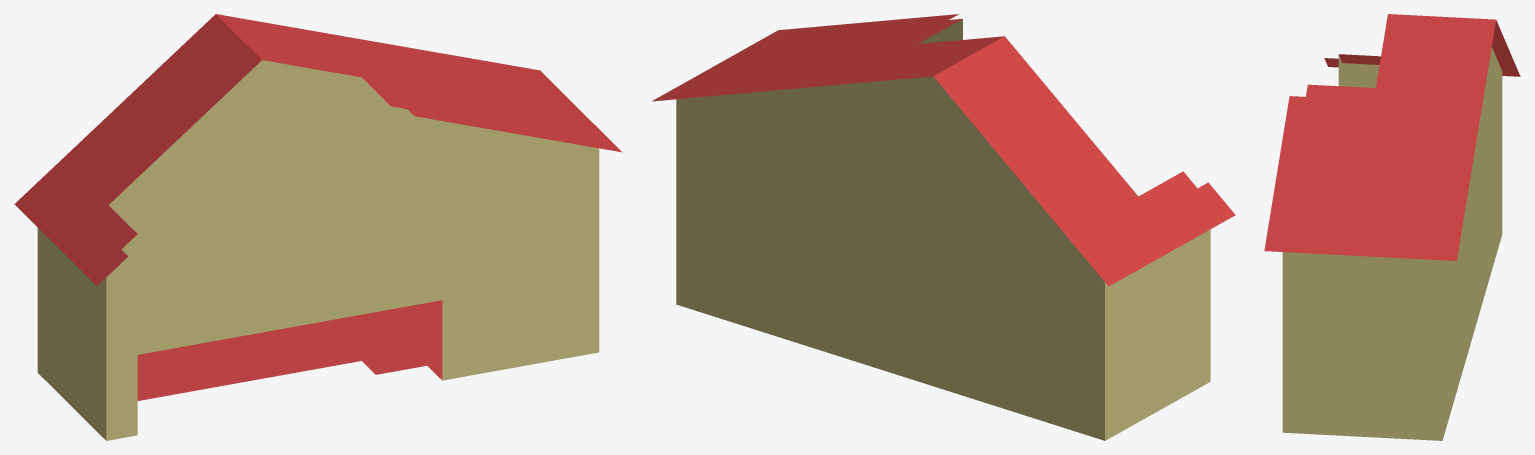
The picture shows the model from 3 angles, left to right: view 1: azimuth 30°, elevation 25°; view 2: azimuth 150°, elevation 25°; view 3: azimuth 270°, elevation 25°; orthographic projection. The views are drawn at different scales.
Bounding box in the file's own units: 16.58 × 7.8 × 9.84.
